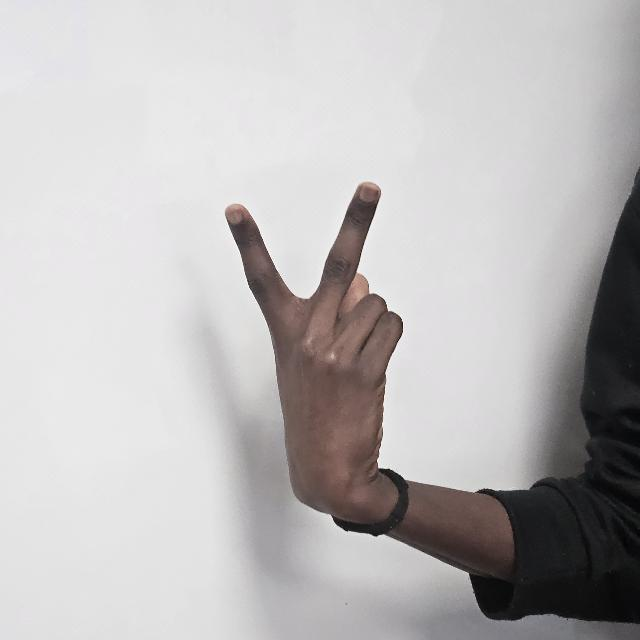Triangulo: (210, 178, 404, 556)
